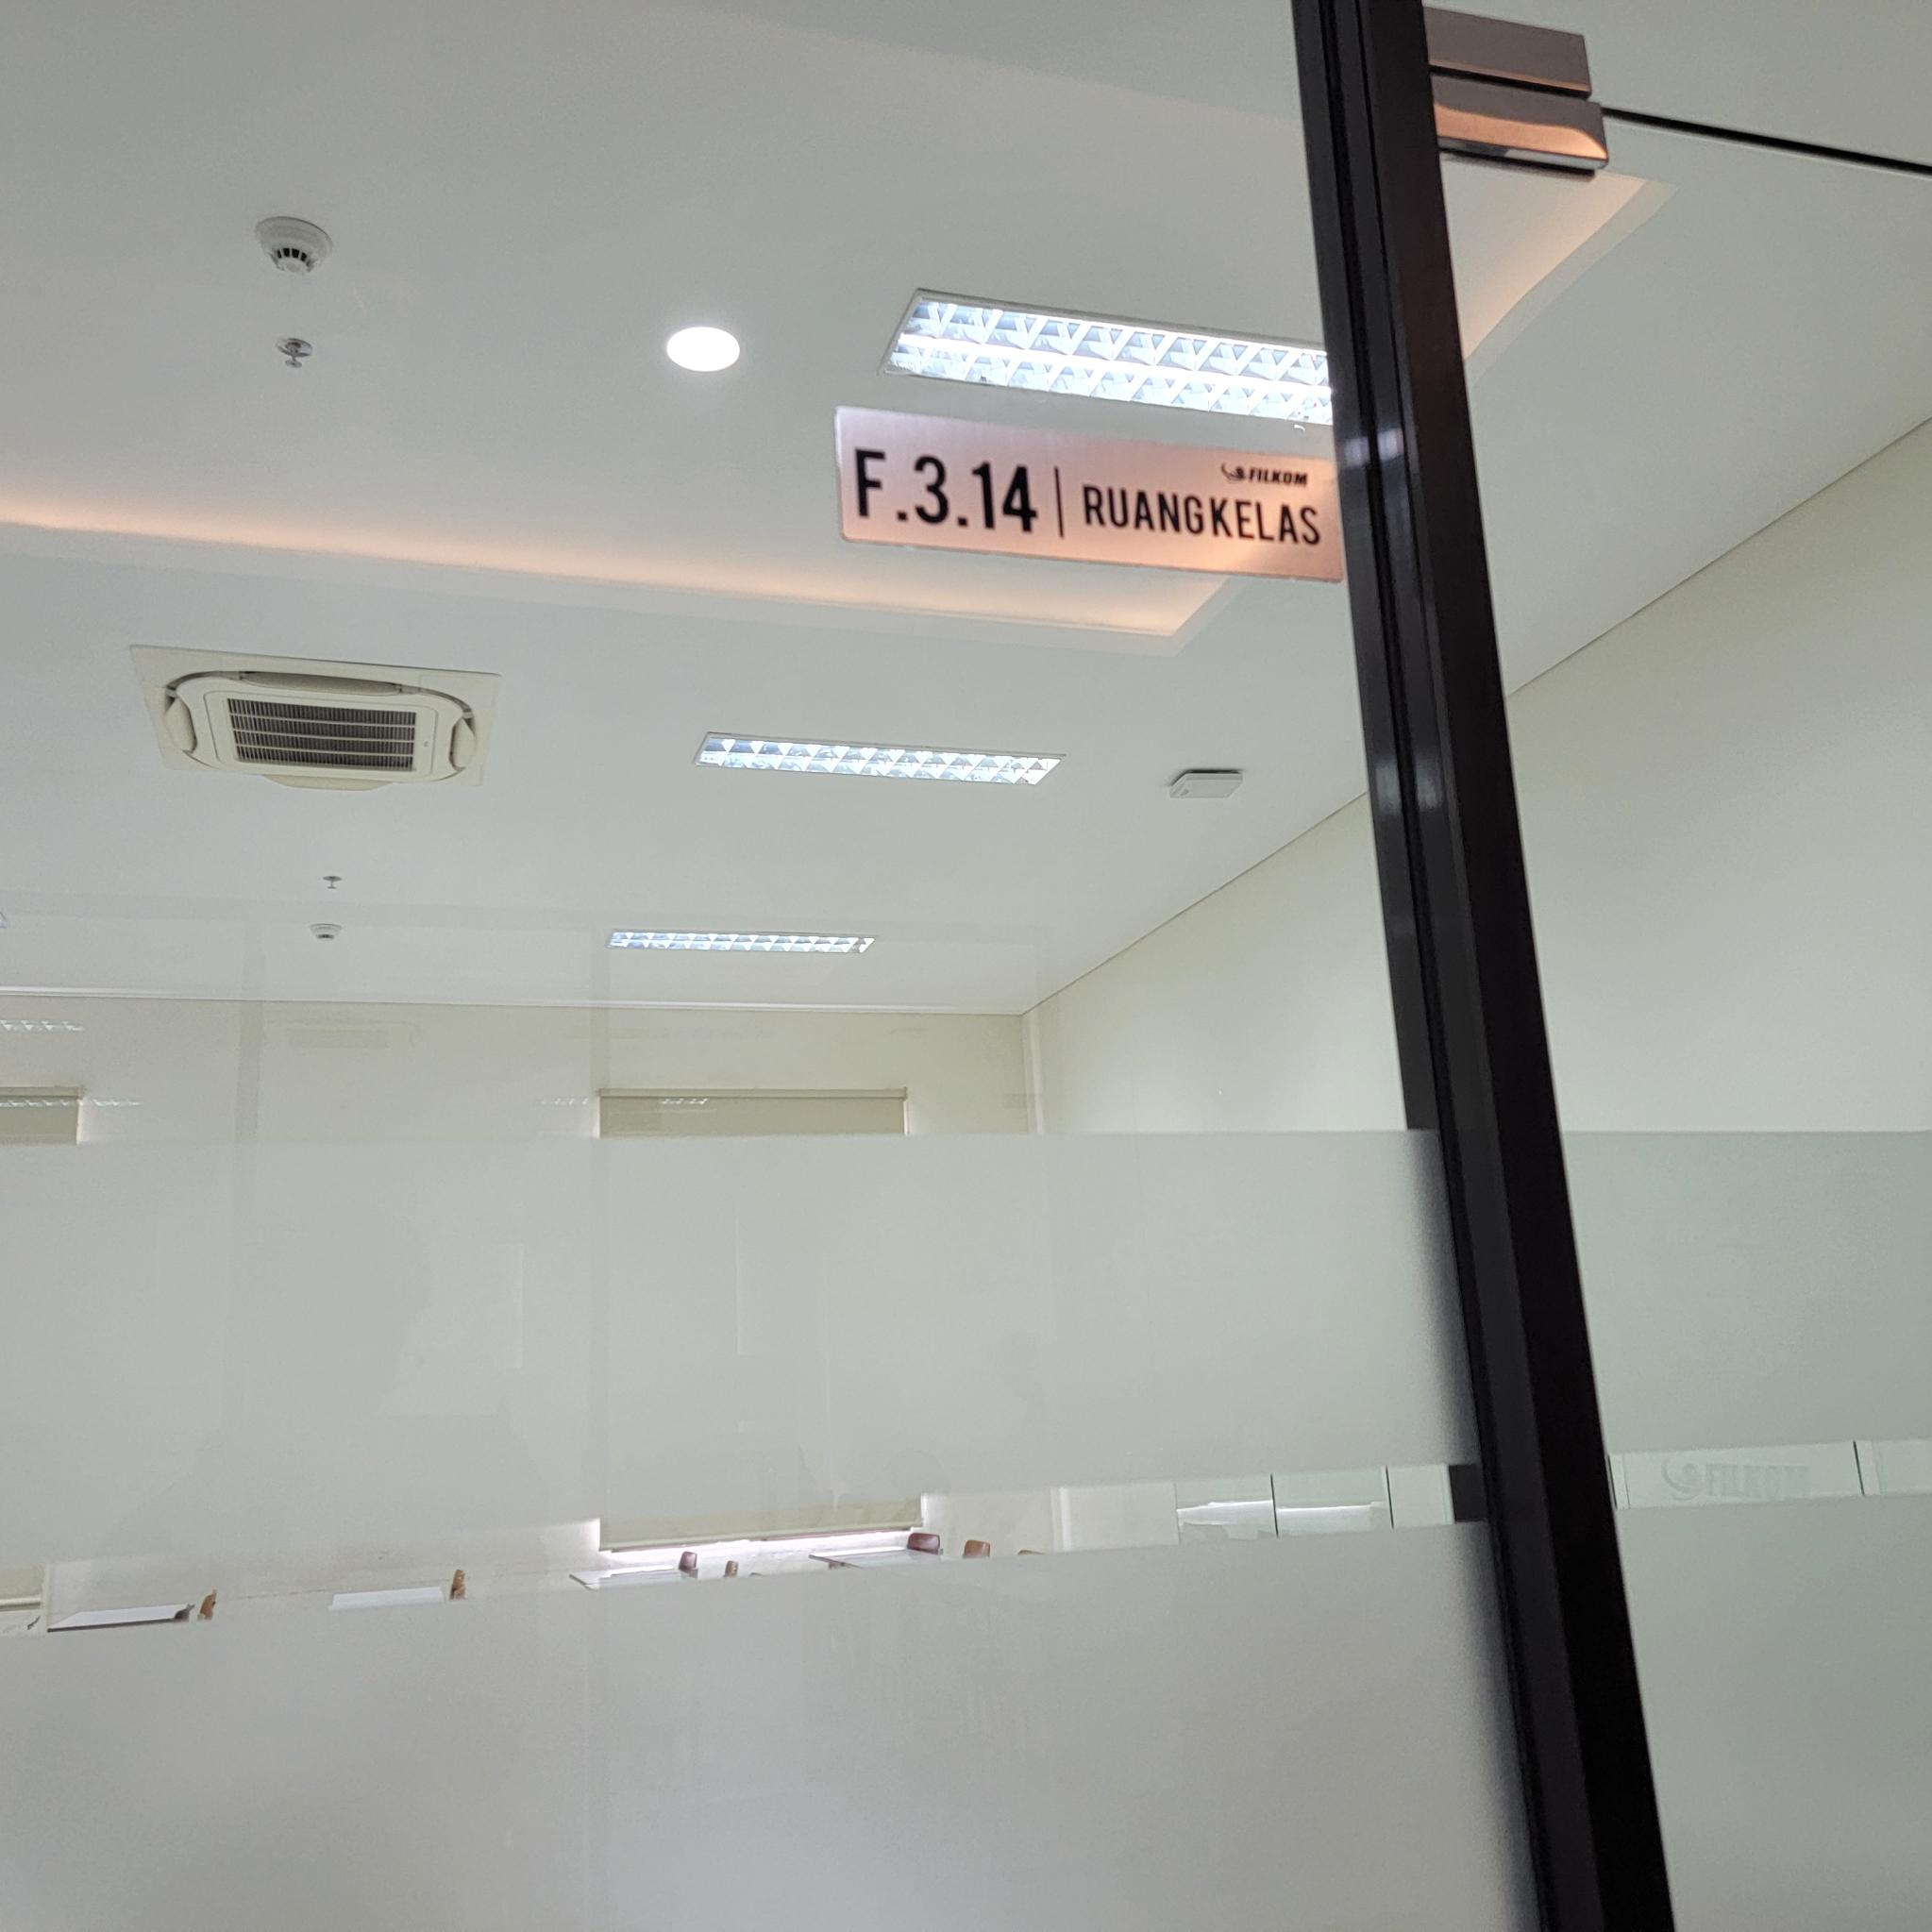plate: (835, 402, 1345, 586)
